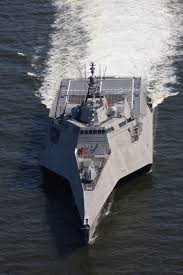Ship: (41, 77, 153, 242)
